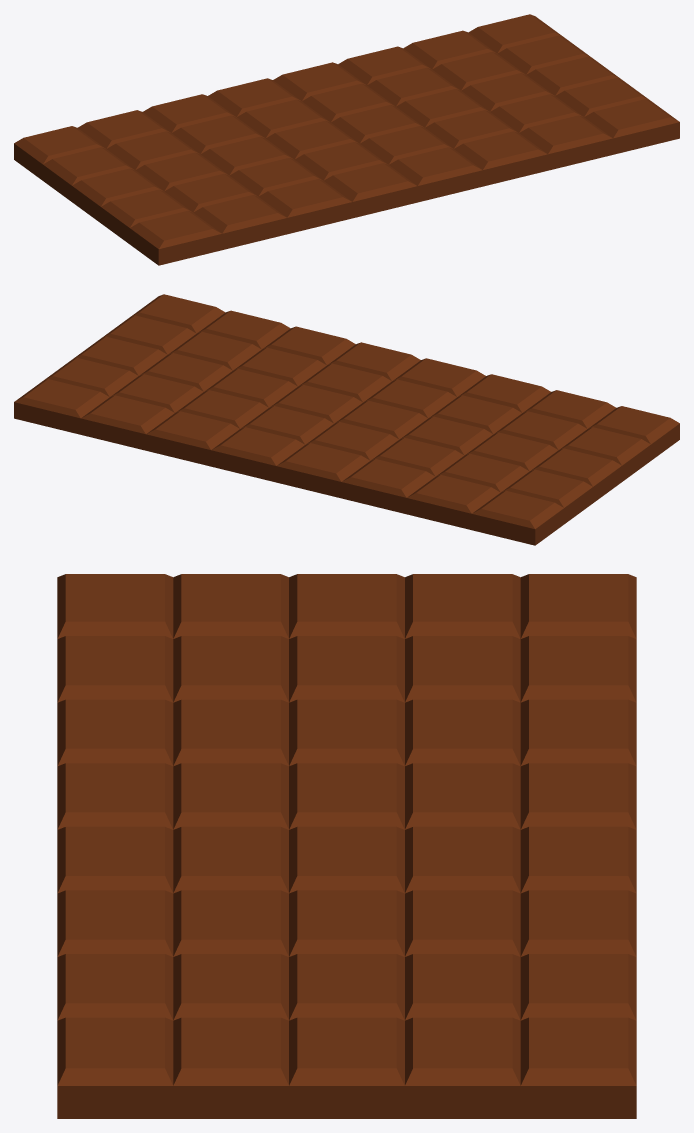
File: Choco.fbx
The picture shows the model from 3 angles, top to bottom: view 1: azimuth 30°, elevation 25°; view 2: azimuth 150°, elevation 25°; view 3: azimuth 270°, elevation 25°; orthographic projection. The views are drawn at different scales.
Parts seen in each view (by area): view 1: 立方体; view 2: 立方体; view 3: 立方体.
Boxes of the visible parts, x1,y1,x2,y2 form: 立方体: (14,14,679,265); 立方体: (14,294,679,545); 立方体: (57,574,636,1118).
Bounding box in the file's own units: 813 × 32.28 × 391.
